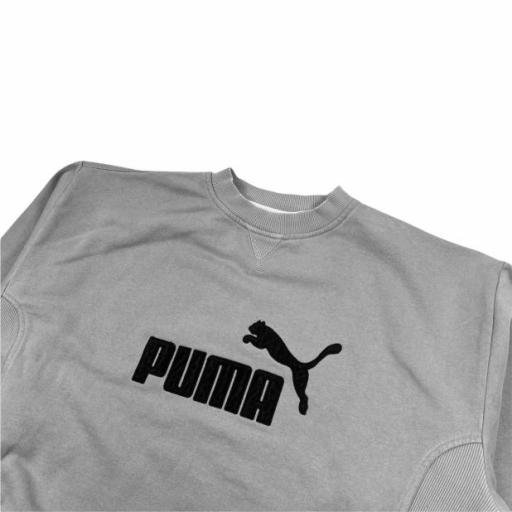Puma: (131, 332, 286, 435), (239, 315, 348, 420)
